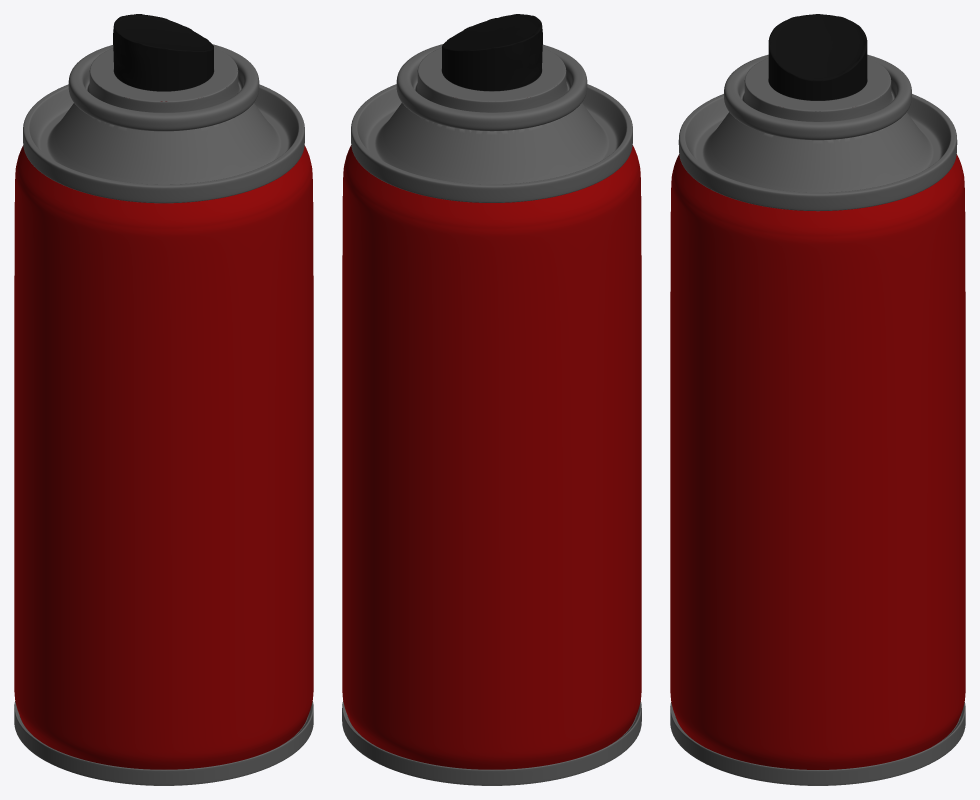
Rendered from SprayCan3D.FBX.
The picture shows the model from 3 angles, left to right: view 1: azimuth 30°, elevation 25°; view 2: azimuth 150°, elevation 25°; view 3: azimuth 270°, elevation 25°; orthographic projection.
Parts seen in each view (by area): view 1: Label, Body, TooBig0, sprayer; view 2: Label, Body, TooBig0, sprayer; view 3: Label, Body, TooBig0, sprayer.
Part boxes in pixels (x1,y1,x2,y2): Label: [14, 101, 313, 769]; Body: [19, 44, 308, 785]; TooBig0: [14, 69, 313, 785]; sprayer: [113, 14, 213, 91]; Label: [342, 145, 641, 769]; Body: [347, 44, 636, 785]; TooBig0: [342, 69, 641, 785]; sprayer: [442, 14, 542, 91]; Label: [670, 154, 965, 769]; Body: [675, 54, 960, 785]; TooBig0: [670, 79, 965, 785]; sprayer: [768, 14, 867, 100].
Bounding box in the file's own units: 12.15 × 12.15 × 31.27.
